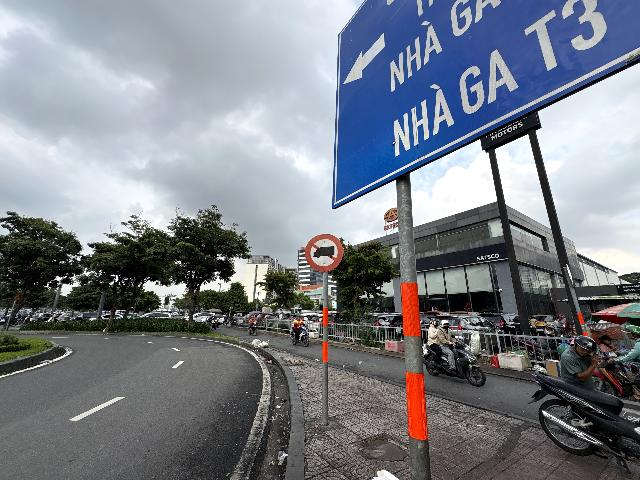cam-xe-tai: (305, 233, 343, 272)
